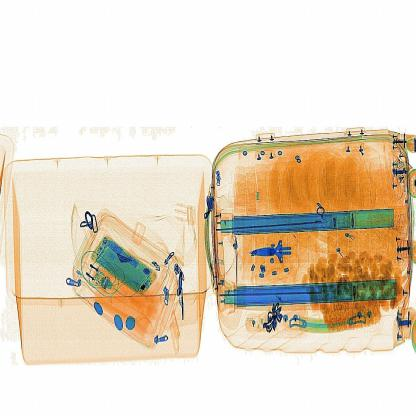gun: (247, 219, 310, 282)
